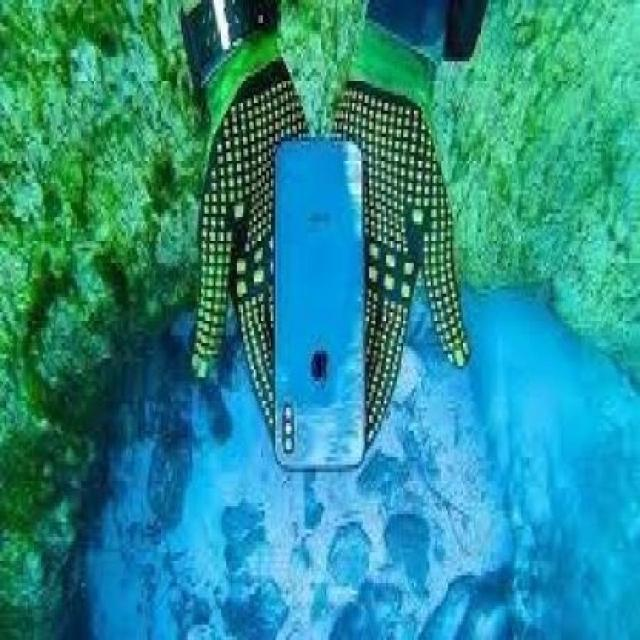cellphone: (274, 133, 372, 473)
